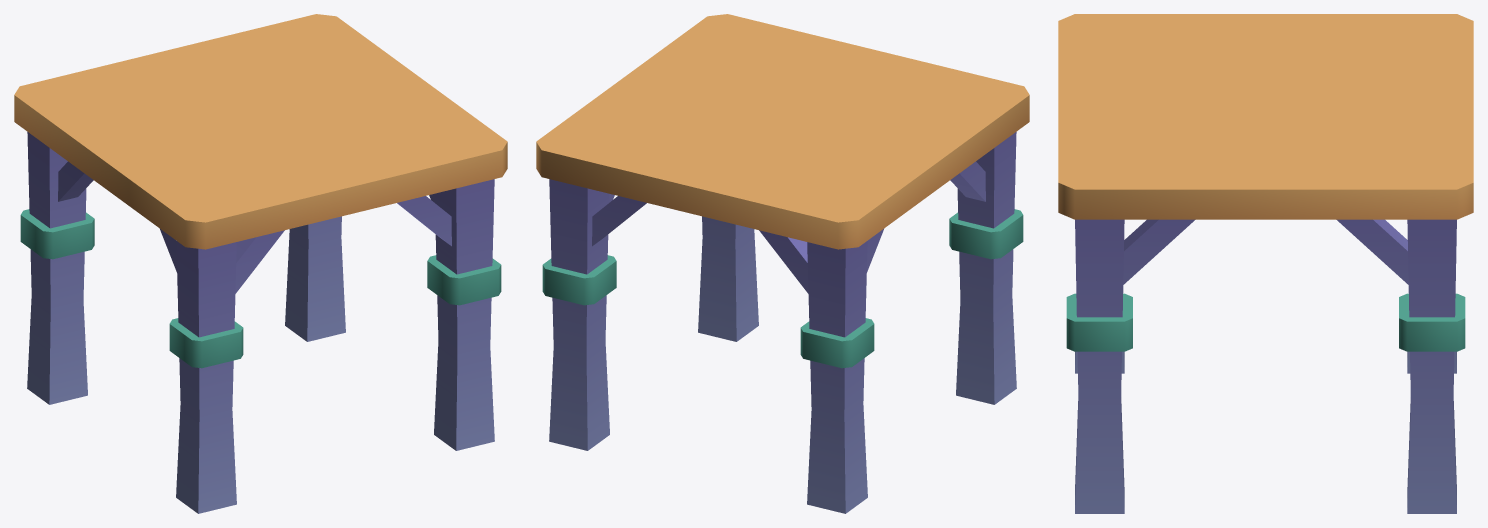
Rendered from structure.fbx.
3 views of the same model, side by side, from view 1: azimuth 30°, elevation 25°; view 2: azimuth 150°, elevation 25°; view 3: azimuth 270°, elevation 25° (orthographic). The views are drawn at different scales.
Visible parts, largest first — view 1: structure; view 2: structure; view 3: structure.
Part boxes in pixels (x1,y1,x2,y2): structure: [14, 14, 507, 513]; structure: [536, 14, 1029, 513]; structure: [1058, 14, 1473, 513].
Size of the model in its own units: 250 by 220 by 250.
